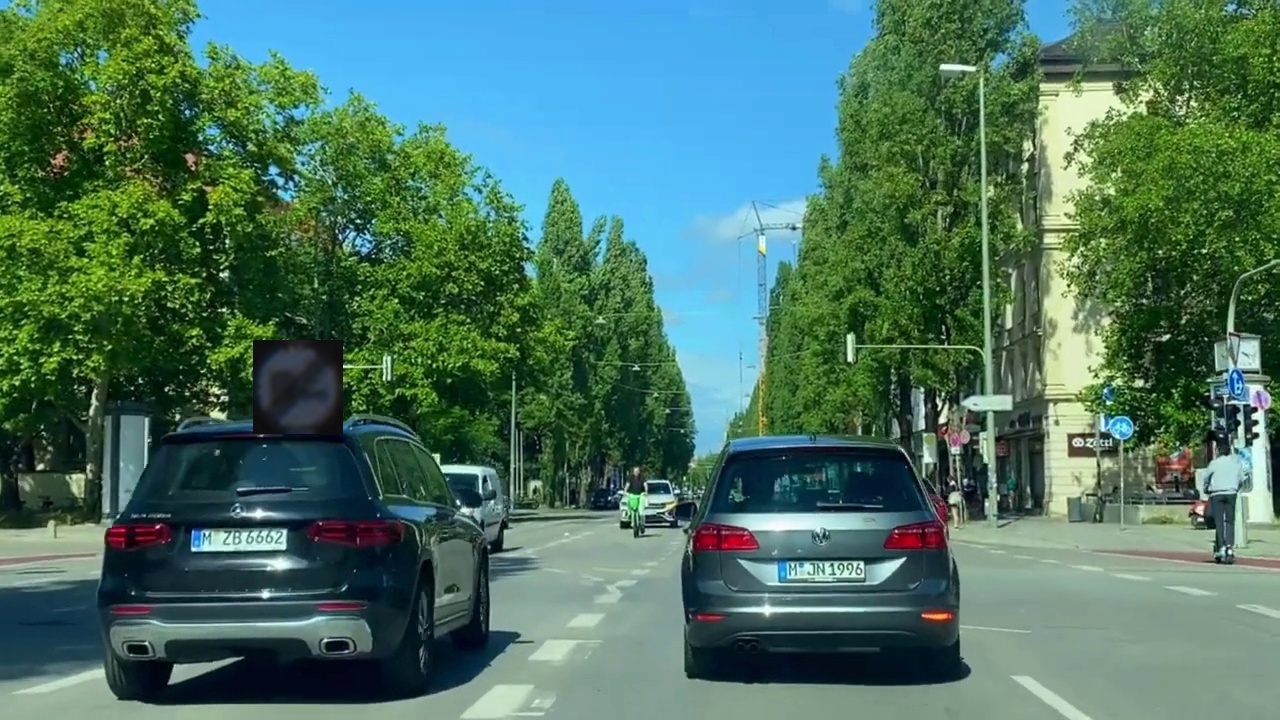End no pass >3.5t: (253, 340, 343, 434)
